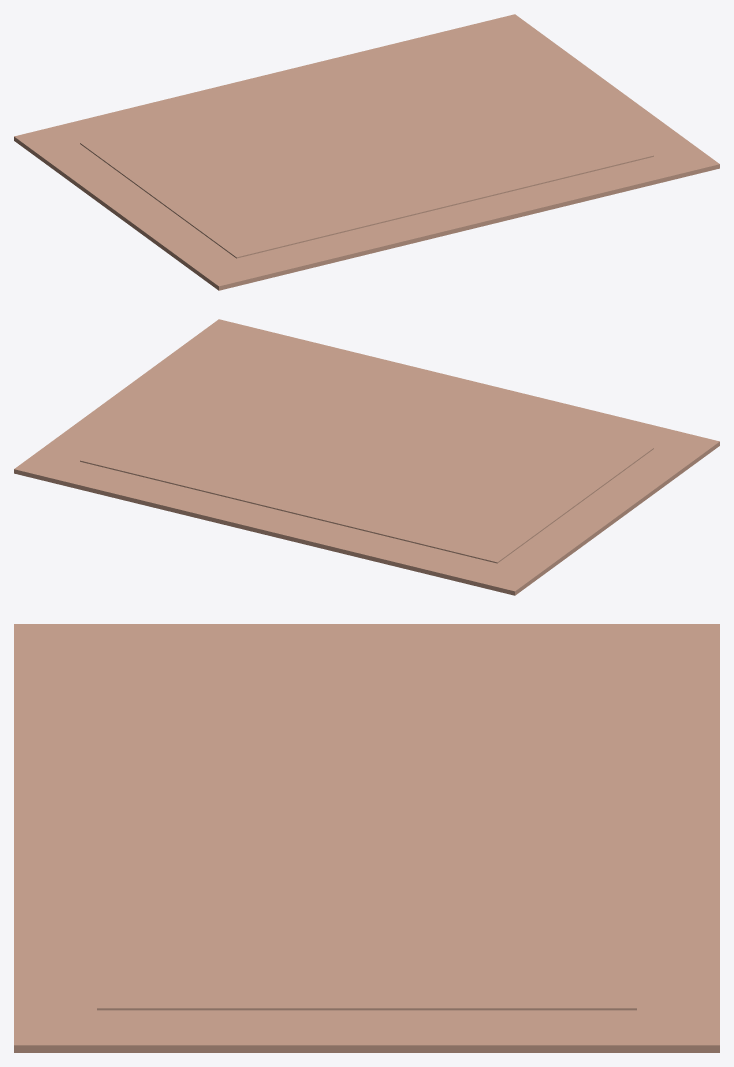
File: fu_rug.glb
3 views of the same model, one above another, from view 1: azimuth 30°, elevation 25°; view 2: azimuth 150°, elevation 25°; view 3: azimuth 270°, elevation 25° (orthographic). The views are drawn at different scales.
Visible parts, largest first — view 1: fu_rug; view 2: fu_rug; view 3: fu_rug.
Boxes of the visible parts, left/top/right/bottom form: fu_rug: left=14, top=14, right=719, bottom=290; fu_rug: left=14, top=319, right=719, bottom=595; fu_rug: left=14, top=624, right=719, bottom=1052.
Bounding box in the file's own units: 2.4 × 0.0255 × 1.7.
